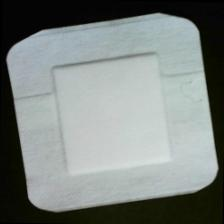Dressing: (3, 9, 224, 218)
F_Body: (177, 72, 205, 116)
